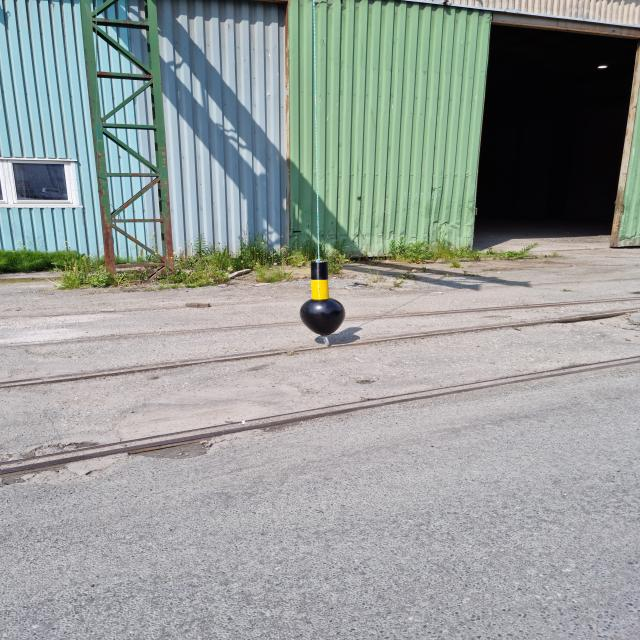east: (299, 260, 346, 336)
